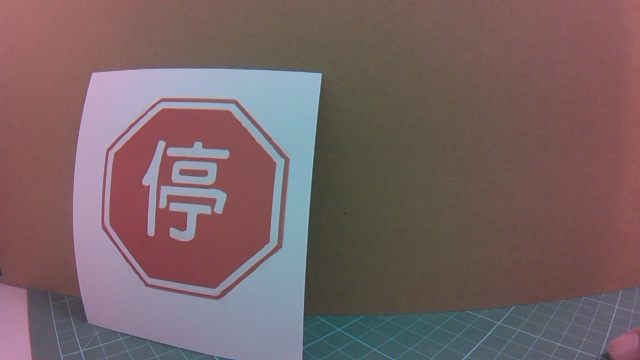stop: (107, 95, 293, 301)
